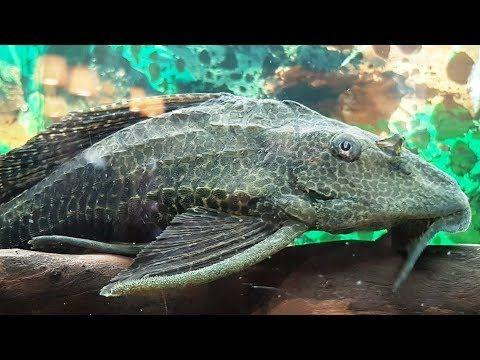Janitor Fish: (5, 90, 470, 306)
